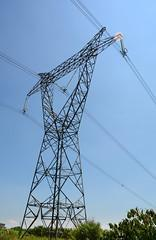power_tower: (13, 24, 129, 240)
